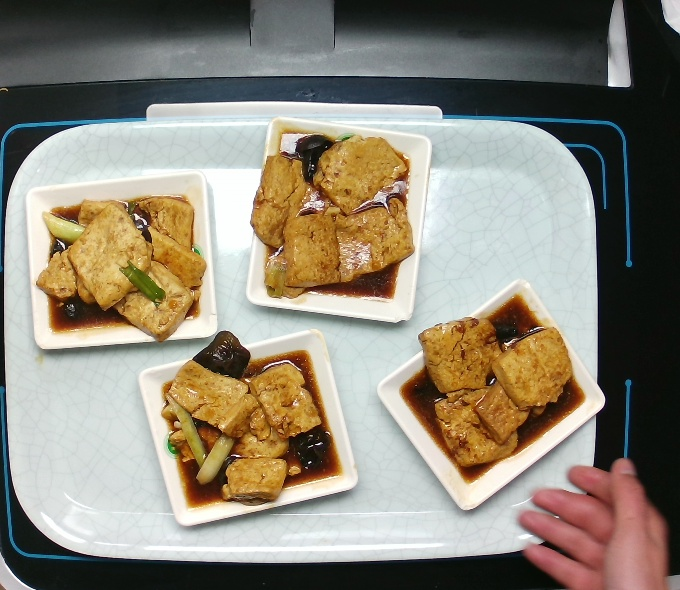wcq-JiaChangDouFu: (398, 291, 587, 484), (161, 329, 344, 509), (247, 131, 417, 302), (34, 192, 206, 342)
